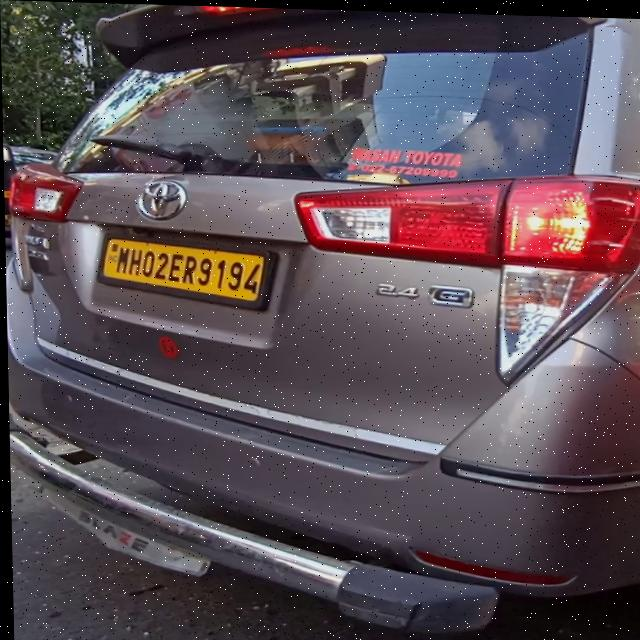plate: (94, 236, 281, 314)
